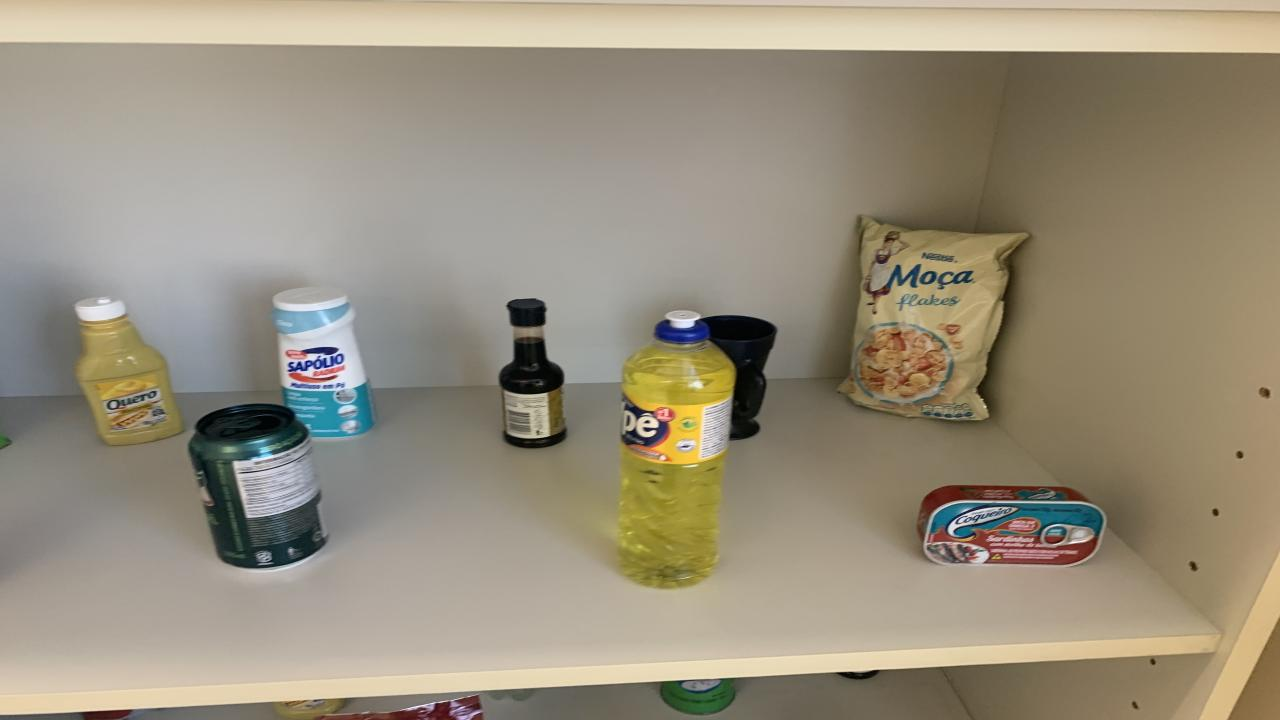Cleaner-Cleanup_Items: (272, 287, 375, 439)
Detergent-Cleanup_Items: (618, 311, 735, 589)
English_Sauce-Pantry_Items: (498, 324, 568, 448), (508, 298, 545, 322)
Flakes-Snacks: (840, 218, 1028, 420)
Guarana_Can-Drinks: (190, 403, 328, 570)
Mustard-Pantry_Items: (75, 296, 182, 444), (272, 698, 345, 720)
Pringles-Snacks: (660, 679, 735, 714)
Tuna_Can-Pantry_Items: (918, 486, 1105, 566)
